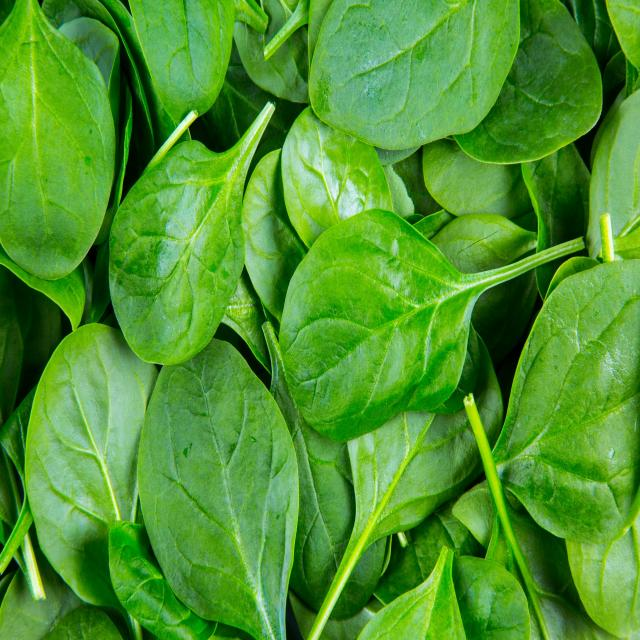spinach: (139, 370, 295, 640), (278, 209, 466, 419), (106, 134, 258, 363), (0, 0, 116, 278), (532, 270, 640, 543), (310, 0, 466, 148), (22, 329, 125, 523), (128, 0, 234, 108)
